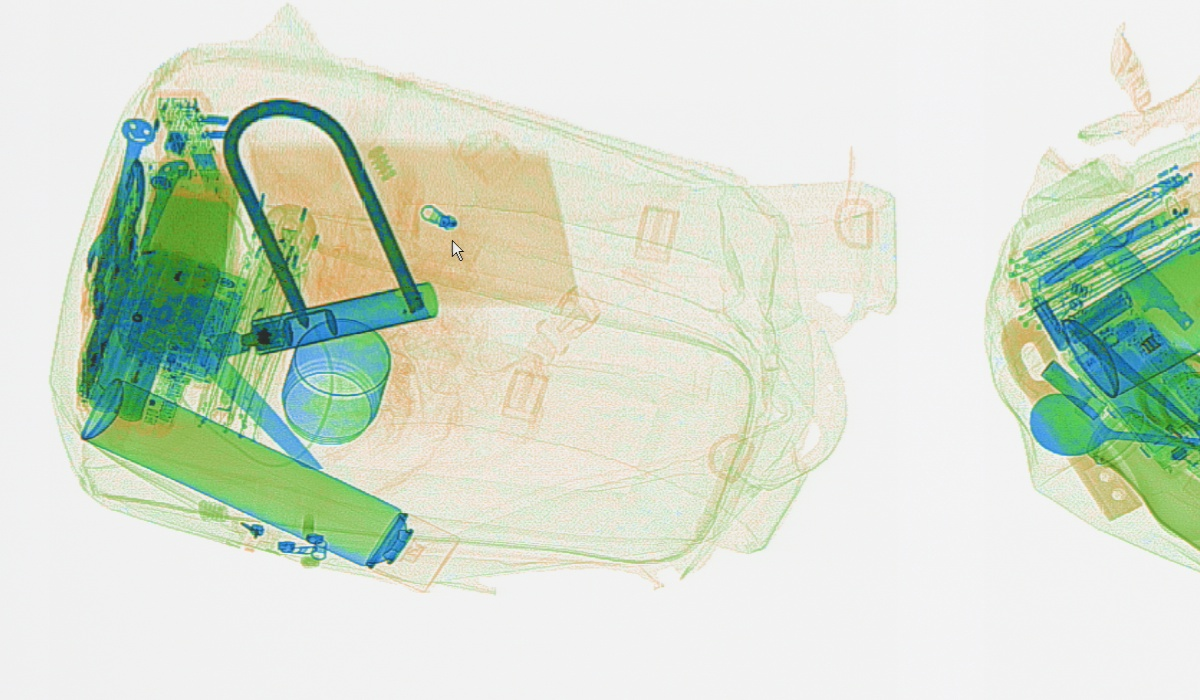knife: (1086, 215, 1197, 341)
powerbank: (81, 238, 225, 420)
pressure: (76, 374, 461, 595), (1057, 227, 1195, 396)
